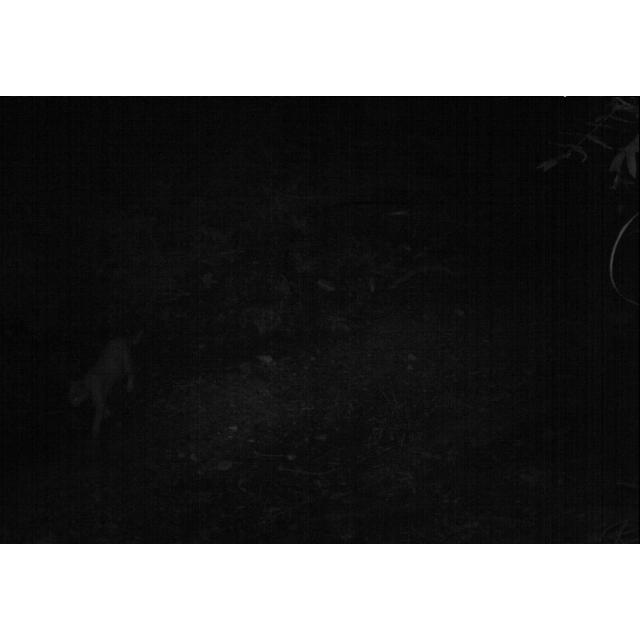animals: (59, 327, 149, 423)
